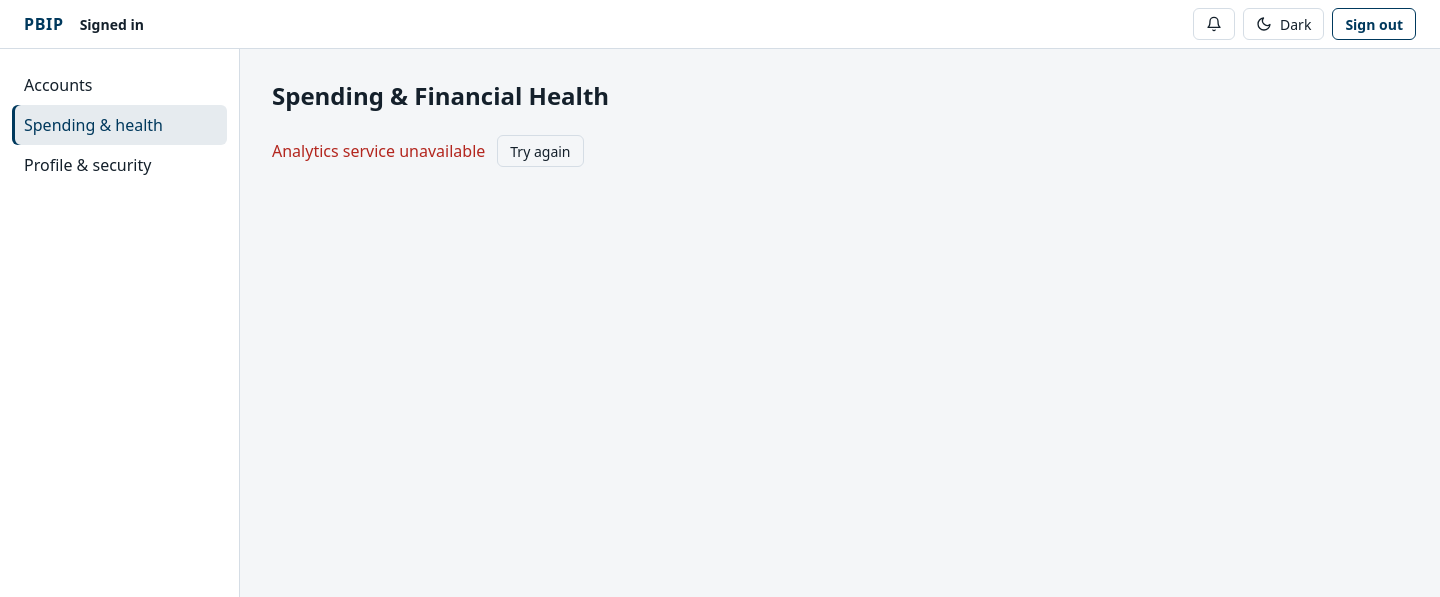
it: Customer Financial Analytics UI (TASK-049) › 8. Handles API error and supports retry
Check: the message shows "Analytics service unavailable", box 272,140 -> 485,162
Click the button "Try again" at (540, 151), box 497,135 -> 584,167
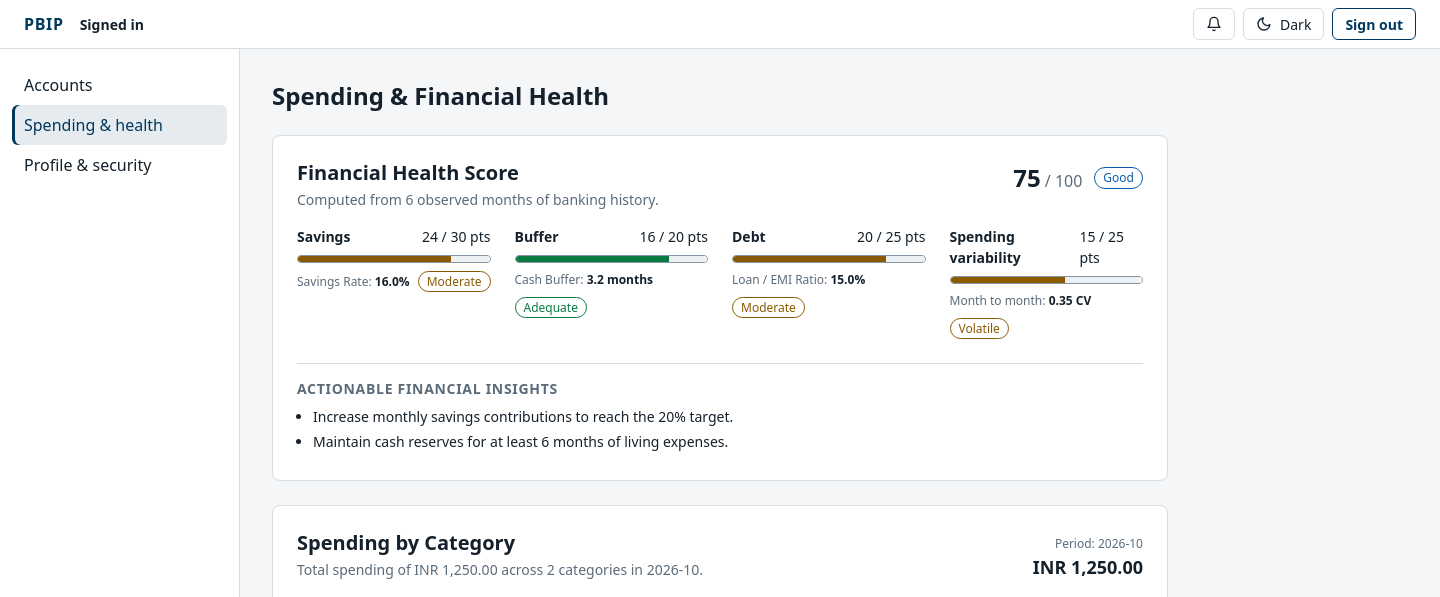
Check: the heading "Spending by Category" is shown, box 297,529 -> 515,556
